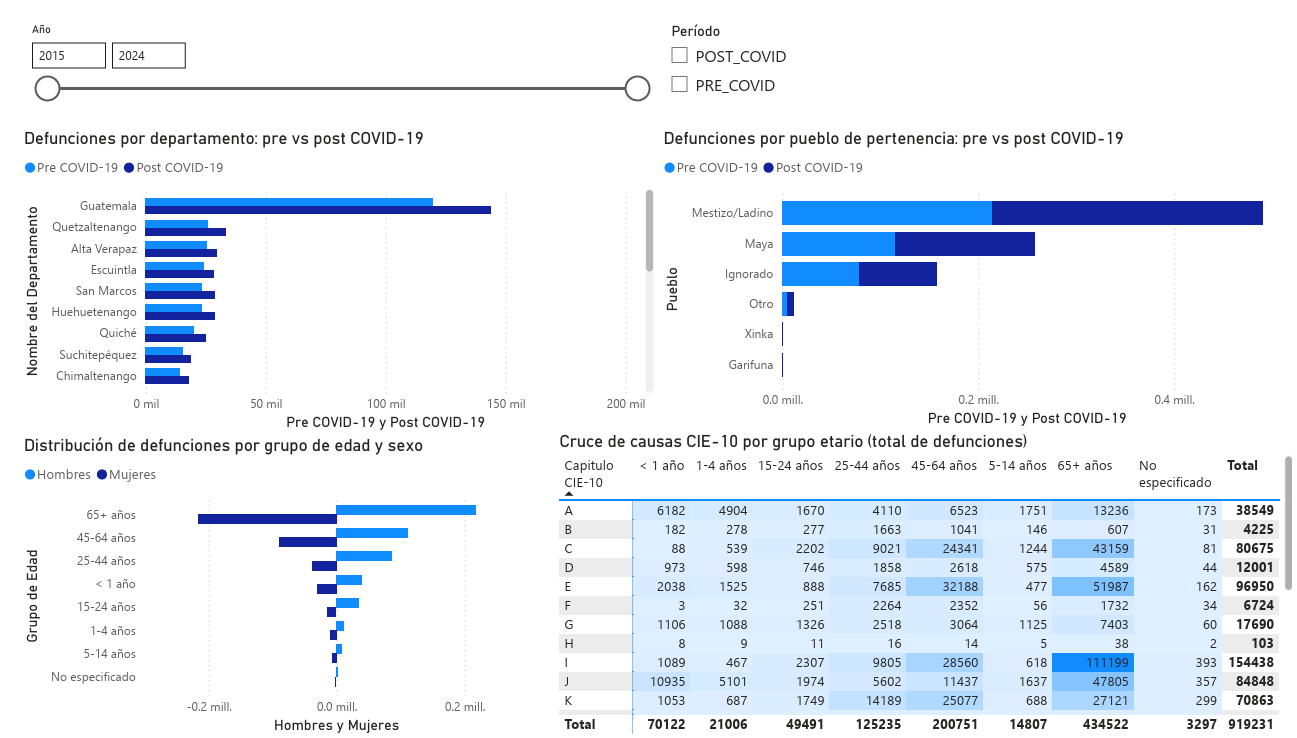

The dashboard page shown, as its layout file describes it:
{"tool":"powerbi","page":{"name":"Atlas-Demografico","canvas":[1280,720],"ordinal":1},"visuals":[{"type":"clusteredBarChart","title":"Defunciones por departamento: pre vs post COVID-19","fields":{"Category":["dataset_defunciones.depto_nombre"],"Y":["dataset_defunciones.PreCOVID_D","dataset_defunciones.PostCOVID_D"]},"box":[0,110,640,306.7],"z":0},{"type":"clusteredBarChart","title":"Distribución de defunciones por grupo de edad y sexo","fields":{"Category":["dim_grupo_etario.grupo_edad"],"Y":["dataset_defunciones.Hombres","dataset_defunciones.MujeresNeg"]},"box":[0,416.7,535.6,303.3],"z":1000},{"type":"barChart","title":"Defunciones por pueblo de pertenencia: pre vs post COVID-19","fields":{"Category":["dim_pueblo.pueblo_desc"],"Y":["dataset_defunciones.PreCOVID_D","dataset_defunciones.PostCOVID_D"]},"box":[640,110,640,303.3],"z":2000},{"type":"pivotTable","title":"Cruce de causas CIE-10 por grupo etario (total de defunciones)","fields":{"Rows":["dataset_defunciones.capitulo_1"],"Columns":["dim_grupo_etario.grupo_edad"],"Values":["dataset_defunciones.TotalDef"]},"box":[535.6,413.3,744.4,306.7],"z":3000},{"type":"slicer","fields":{"Values":["dataset_defunciones.anio"]},"box":[0,0,640,110],"z":4000},{"type":"slicer","fields":{"Values":["dataset_defunciones.periodo"]},"box":[640,0,640,110],"z":5000}]}

Visuals, with their boxes in screenshot pixels (x1, y1, x2, y2), scaled from the page's 1280x720 canvas onto the 1297x738 screenshot:
"Defunciones por departamento: pre vs post COVID-19" clusteredBarChart: [0,113,648,427]
"Distribución de defunciones por grupo de edad y sexo" clusteredBarChart: [0,427,543,737]
"Defunciones por pueblo de pertenencia: pre vs post COVID-19" barChart: [648,113,1296,424]
"Cruce de causas CIE-10 por grupo etario (total de defunciones)" pivotTable: [543,424,1296,737]
slicer - dataset_defunciones.anio: [0,0,648,113]
slicer - dataset_defunciones.periodo: [648,0,1296,113]
